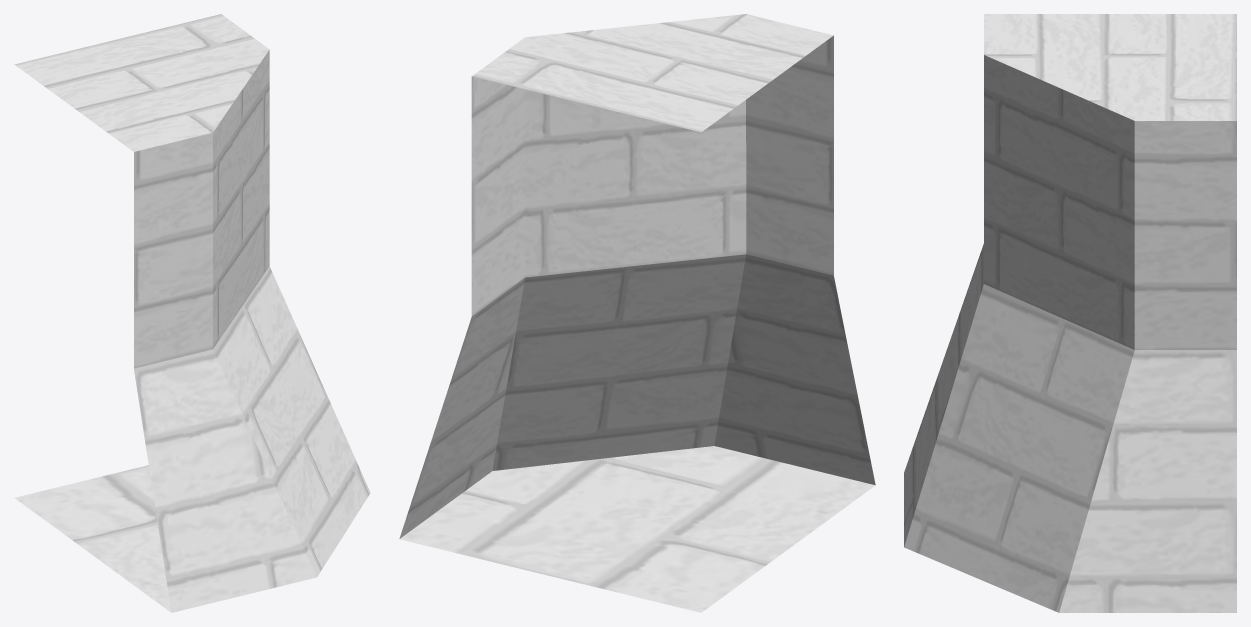
File: castle_type_k.gltf
The picture shows the model from 3 angles, left to right: view 1: azimuth 30°, elevation 25°; view 2: azimuth 150°, elevation 25°; view 3: azimuth 270°, elevation 25°; orthographic projection. The views are drawn at different scales.
Parts seen in each view (by area): view 1: Type_K; view 2: Type_K; view 3: Type_K.
Part boxes in pixels (x1,y1,x2,y2): Type_K: [14, 14, 370, 612]; Type_K: [399, 14, 875, 612]; Type_K: [904, 14, 1236, 612].
Size of the model in its own units: 0.6578 by 1 by 0.6578.
1 material, 1 textured.
